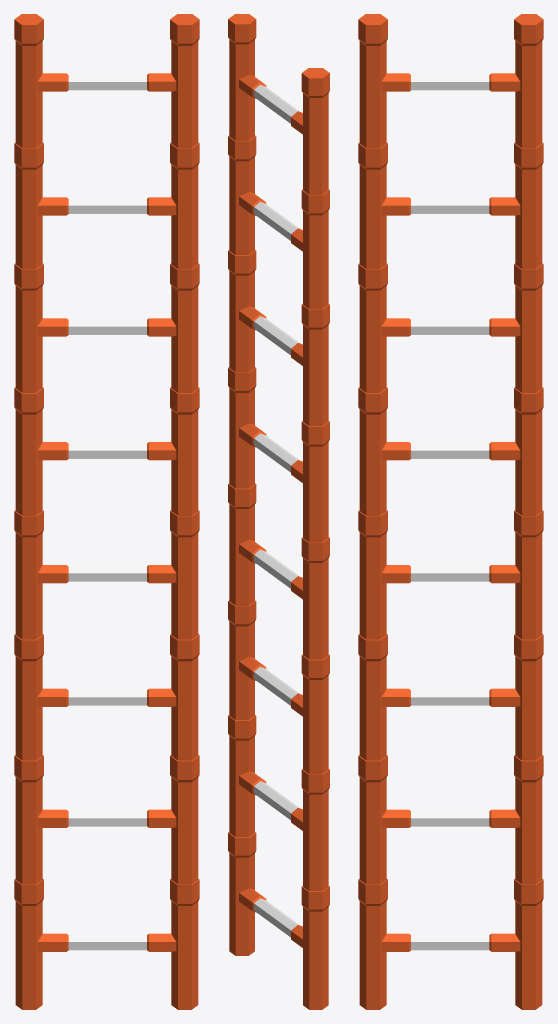
File: ladder.fbx
3 views of the same model, side by side, from view 1: azimuth 90°, elevation 25°; view 2: azimuth 210°, elevation 25°; view 3: azimuth 270°, elevation 25° (orthographic). The views are drawn at different scales.
Parts seen in each view (by area): view 1: Ladder; view 2: Ladder; view 3: Ladder.
Part boxes in pixels (x1,y1,x2,y2): Ladder: (14, 14, 199, 1009); Ladder: (228, 14, 329, 1009); Ladder: (358, 14, 543, 1009).
Bounding box in the file's own units: 6.17 × 259 × 44.25.
